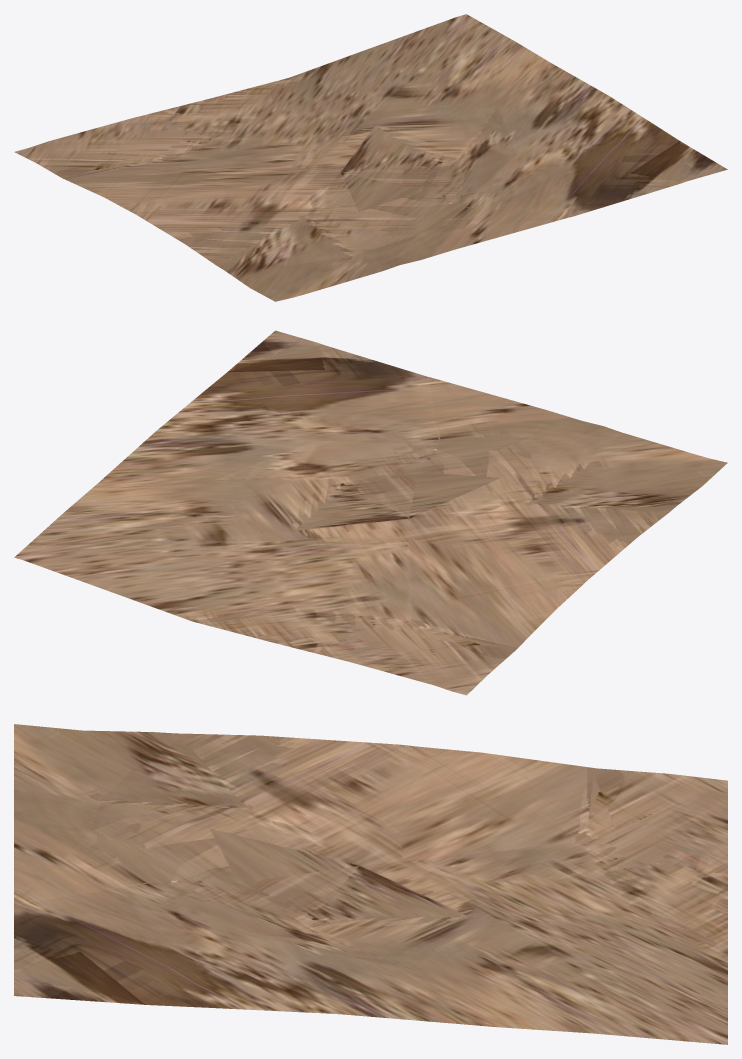
3 renders of one model, top to bottom at view 1: azimuth 30°, elevation 25°; view 2: azimuth 150°, elevation 25°; view 3: azimuth 270°, elevation 25°, orthographic. The views are drawn at different scales.
Size of the model in its own units: 2.09 by 0.2789 by 2.09.
3 materials, 3 textured.
